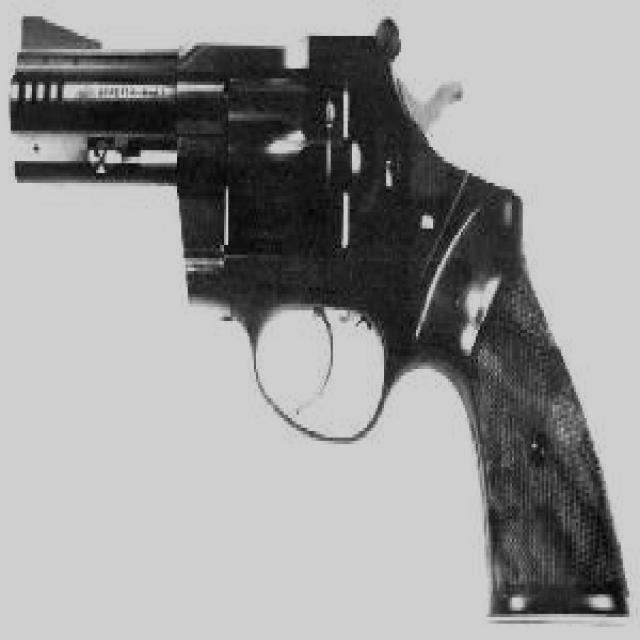pistol: (17, 10, 636, 617)
